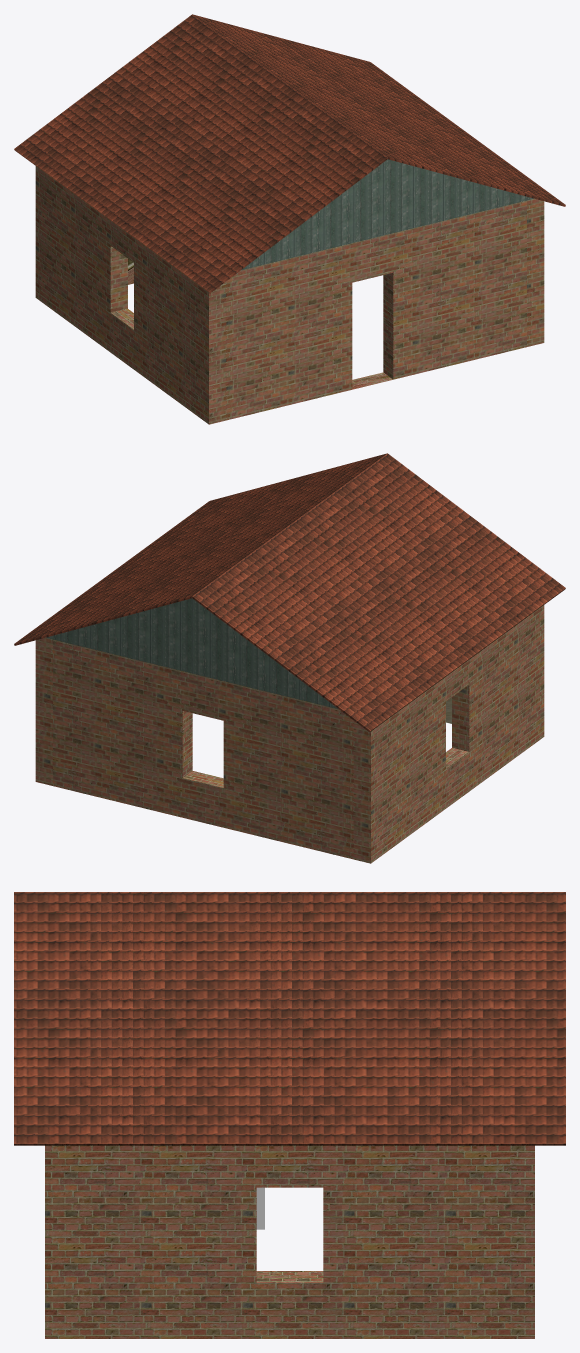
The model's file is house.glb.
3 renders of one model, top to bottom at view 1: azimuth 30°, elevation 25°; view 2: azimuth 150°, elevation 25°; view 3: azimuth 270°, elevation 25°, orthographic. The views are drawn at different scales.
Visible parts, largest first — view 1: Roof, Walls, Attic; view 2: Walls, Roof, Attic; view 3: Roof, Walls.
Part boxes in pixels (x1,y1,x2,y2): Roof: (14,14,565,293); Walls: (35,166,544,424); Attic: (242,159,533,269); Walls: (35,605,544,863); Roof: (14,453,565,732); Attic: (46,598,337,708); Roof: (14,892,565,1145); Walls: (45,1145,534,1338).
Bounding box in the file's own units: 19.53 × 12.27 × 18.54.
Materials: 3 (3 with a texture image).
